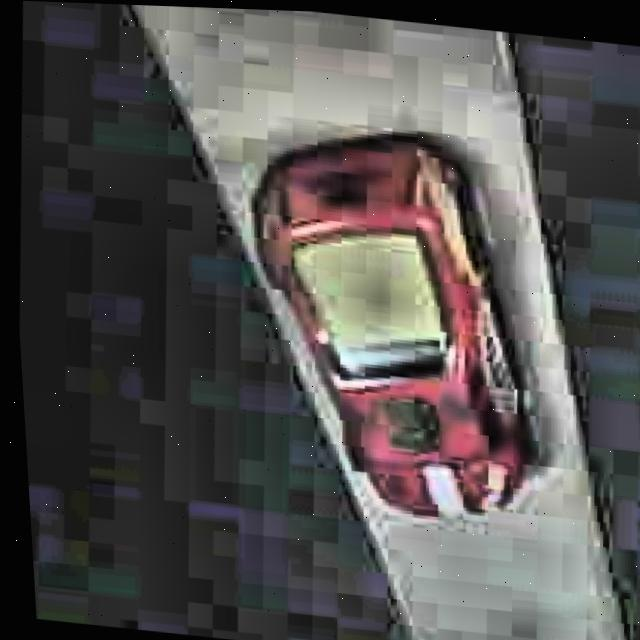car: (220, 109, 557, 534)
